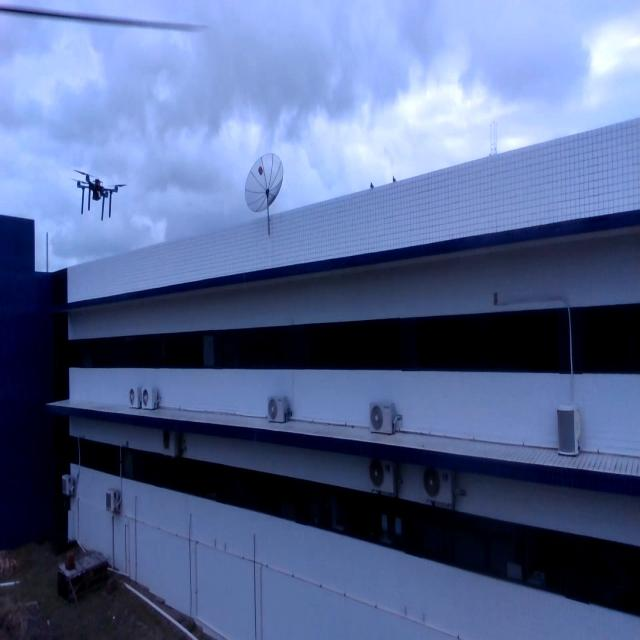-uav-: (66, 163, 128, 224)
